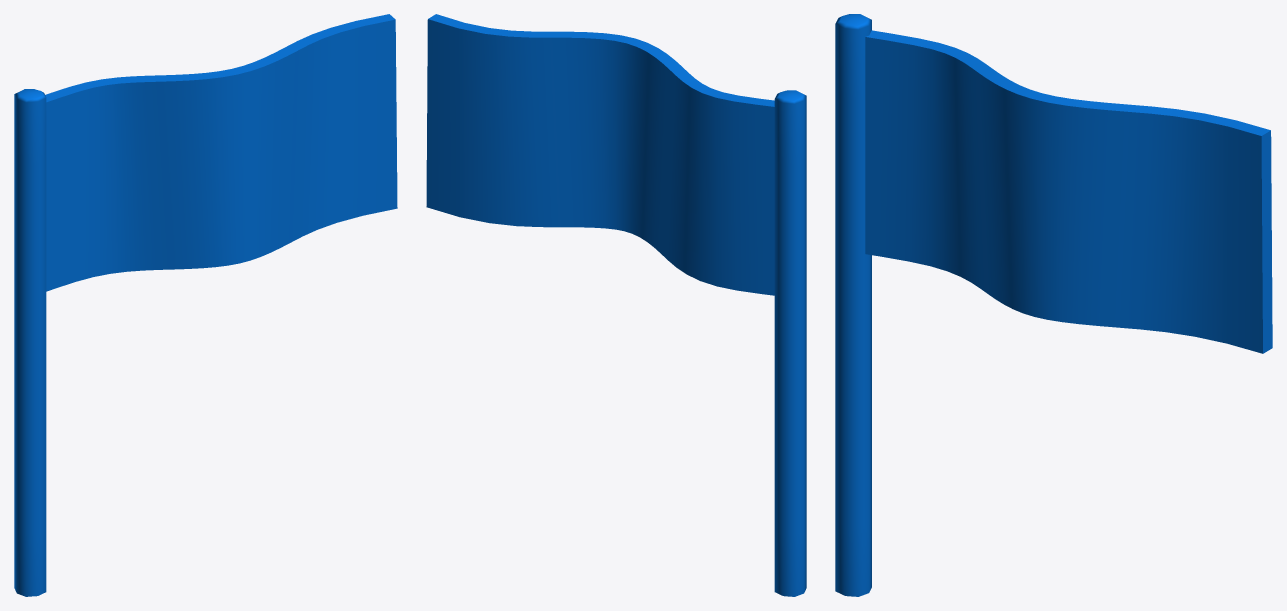
Rendered from flag.fbx.
3 renders of one model, left to right at view 1: azimuth 30°, elevation 25°; view 2: azimuth 150°, elevation 25°; view 3: azimuth 330°, elevation 25°, orthographic. The views are drawn at different scales.
Visible parts, largest first — view 1: pCube20; view 2: pCube20; view 3: pCube20.
Boxes of the visible parts, x1=… form: pCube20: x1=14, y1=14, x2=397, y2=596; pCube20: x1=426, y1=14, x2=806, y2=596; pCube20: x1=835, y1=14, x2=1272, y2=596.
Size of the model in its own units: 2.08 by 2.64 by 0.3401.
